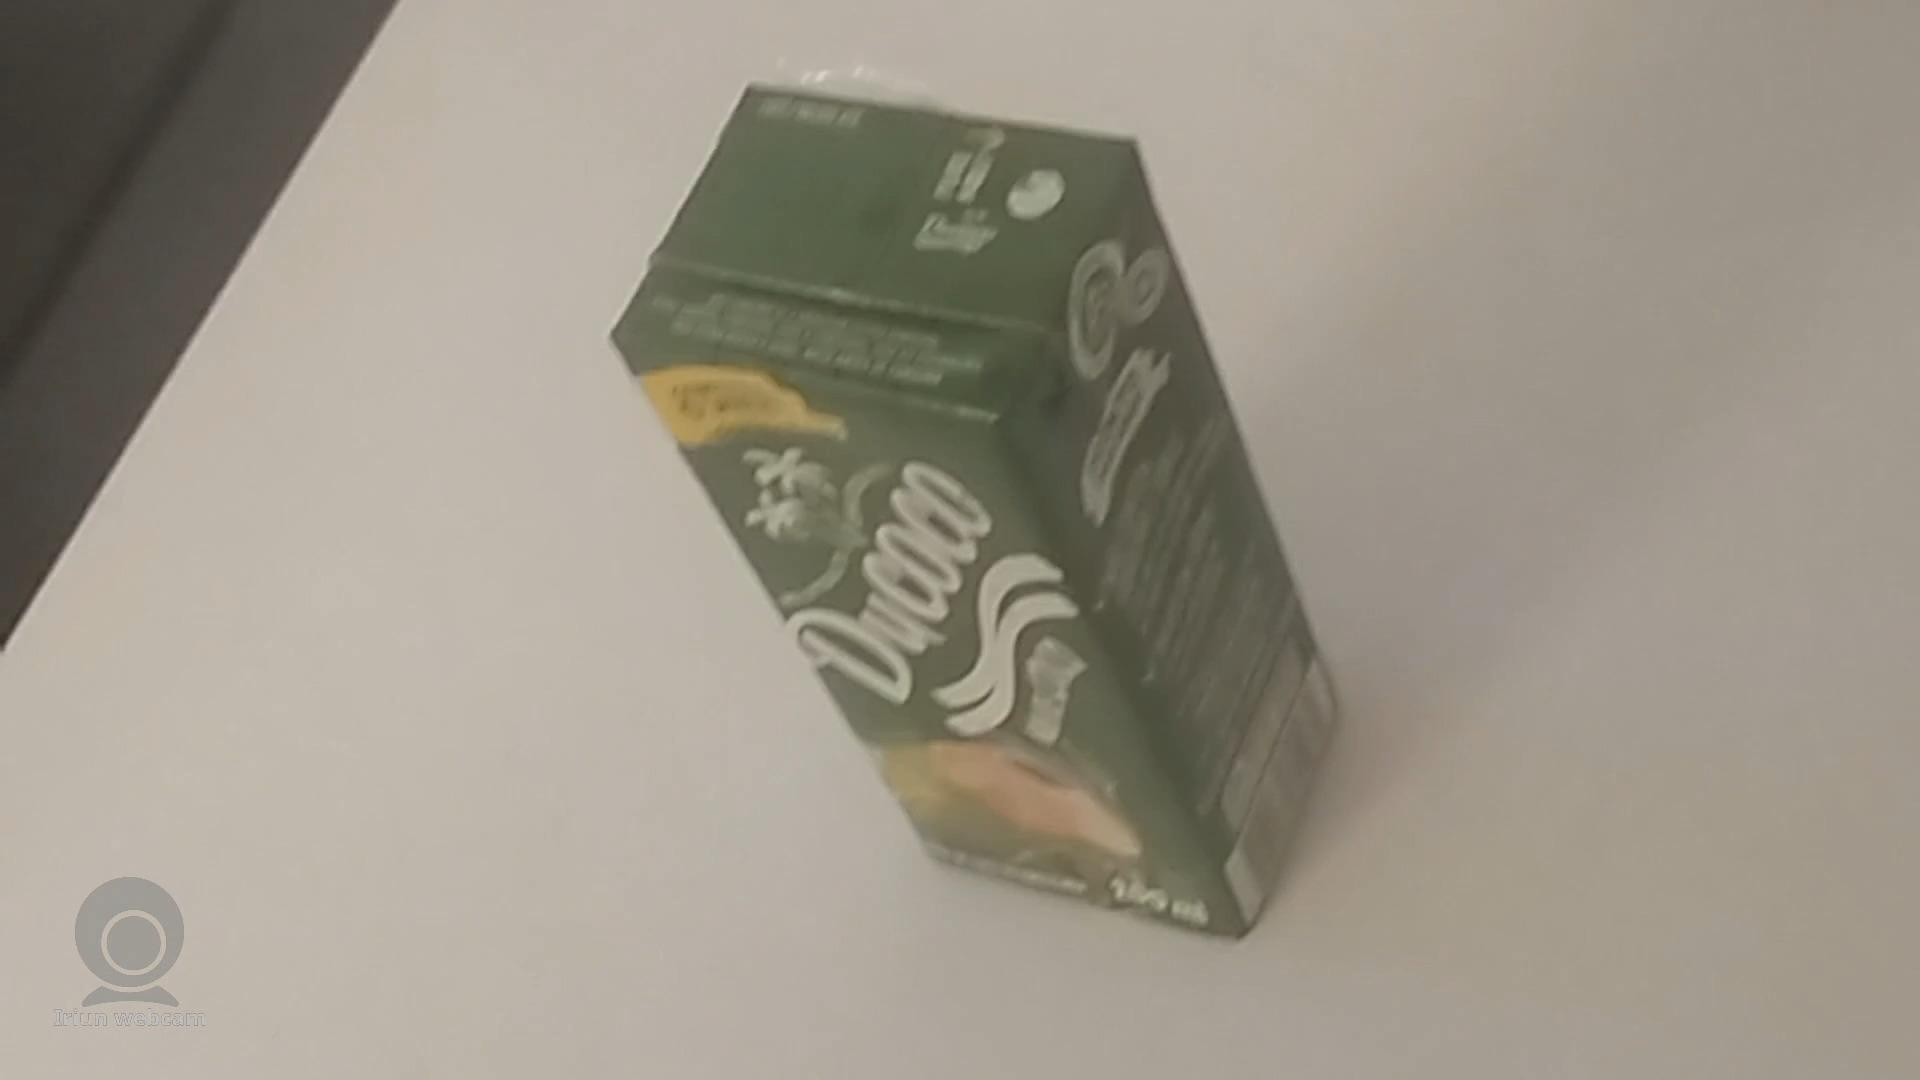coco: (613, 80, 1328, 947)
